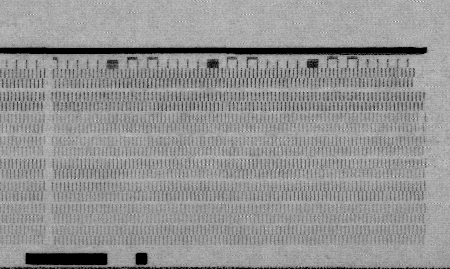Broken hole: (411, 67, 428, 89), (416, 111, 429, 124)
